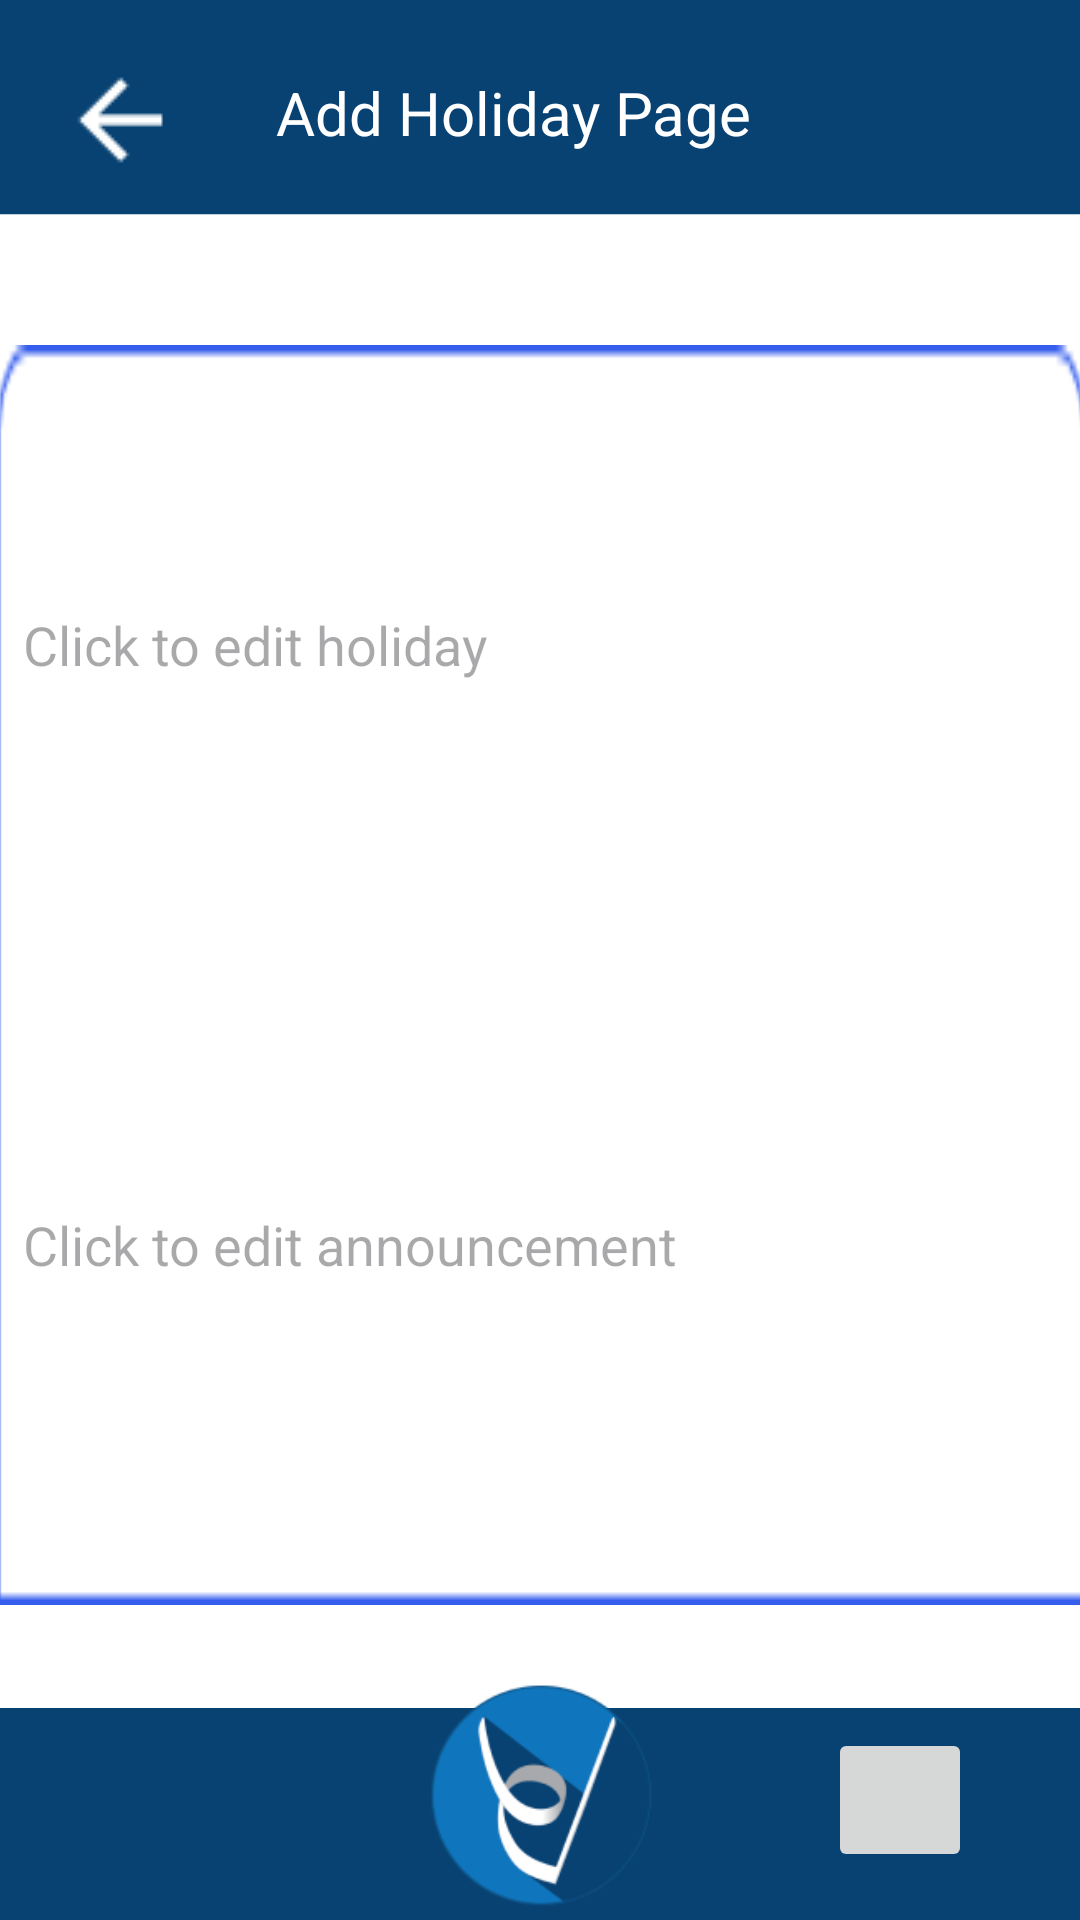

Icons on this 1080px×1920px Android screen, each with the point to tap as [x,y]:
whiteback: [120,120]
